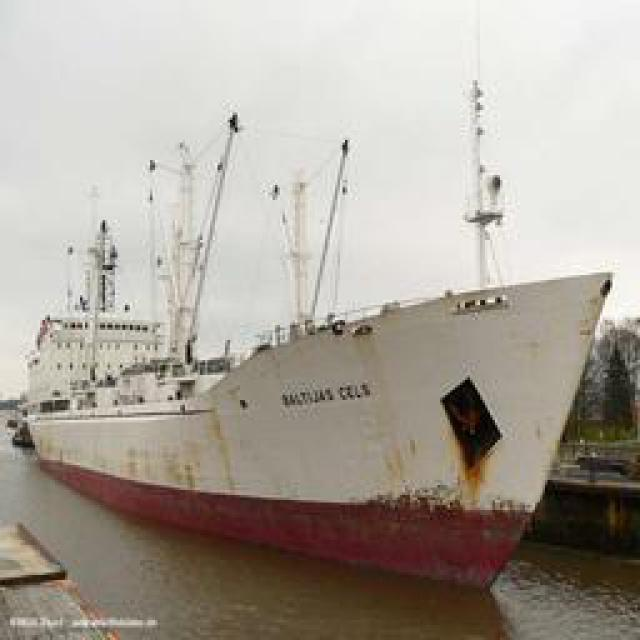Ship: (28, 96, 616, 576)
